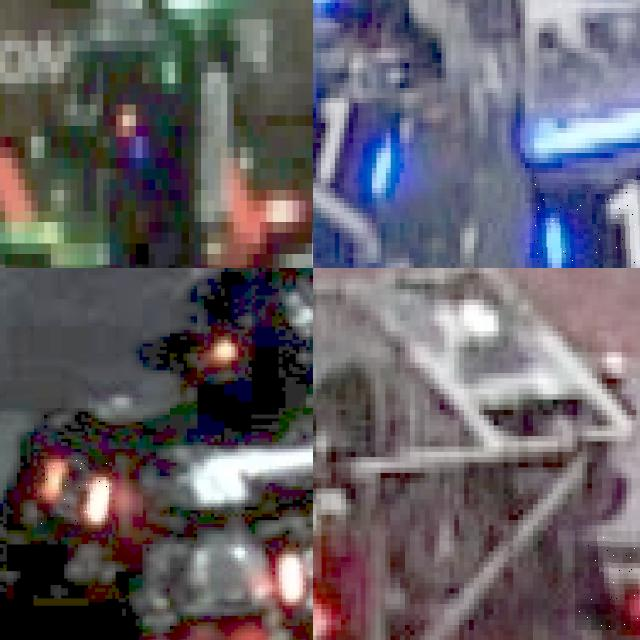B1: (313, 68, 406, 208), (532, 168, 640, 268)
R1: (575, 530, 640, 630)
Rs: (37, 456, 109, 534), (282, 540, 313, 612)
